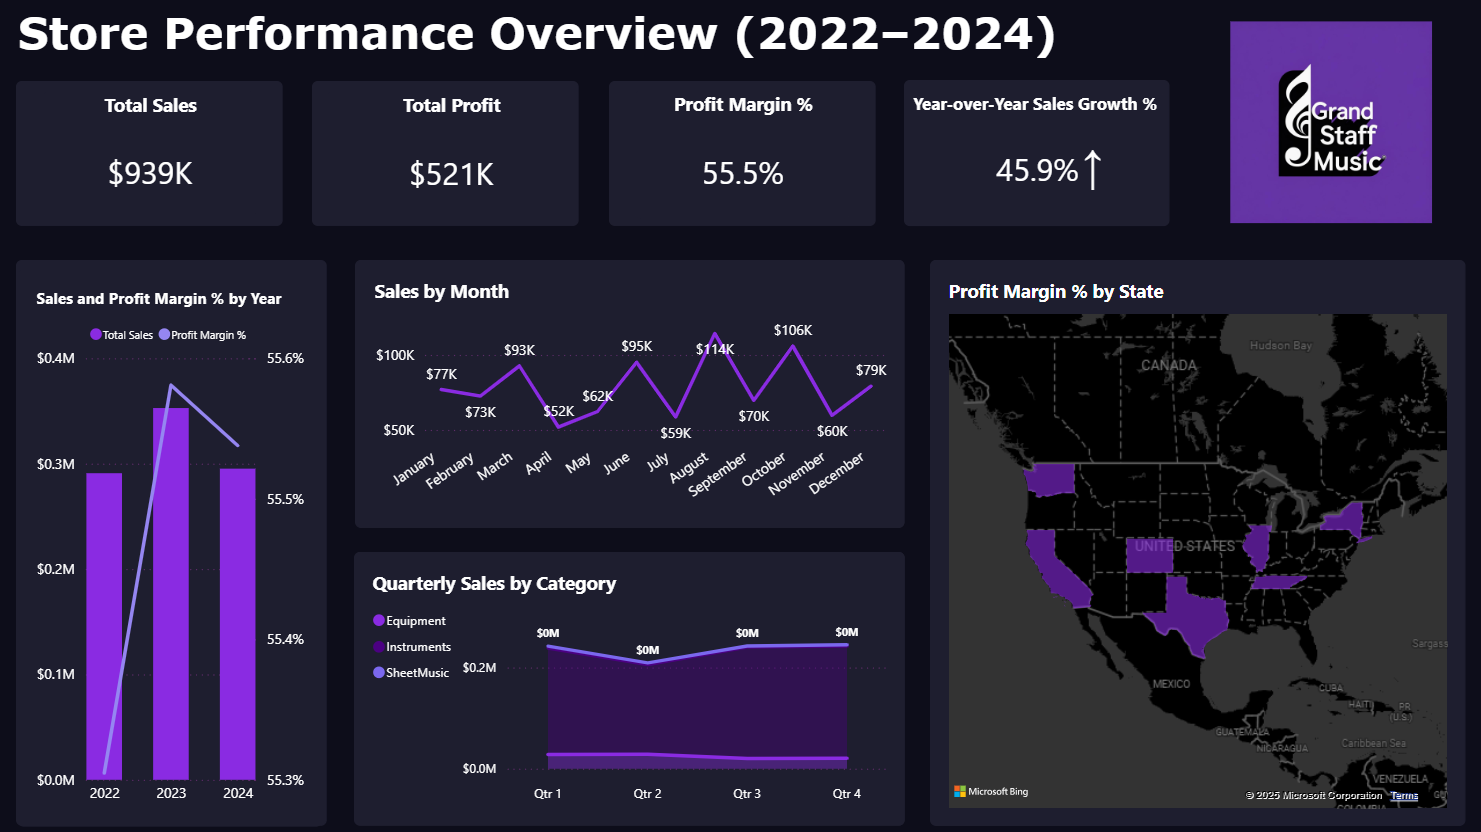

What the dashboard file says about the page in this screenshot:
{"tool":"powerbi","page":{"name":"Overview","canvas":[1280,720],"ordinal":0},"visuals":[{"type":"shape","box":[13.6,70,229.5,125.5],"z":0},{"type":"shape","box":[269.4,70,229.5,125.5],"z":1000},{"type":"shape","box":[525.2,70,229.5,125.5],"z":2000},{"type":"shape","box":[780,68.9,228.9,125.6],"z":3000},{"type":"shape","box":[13.6,224.5,268.2,488.2],"z":4000},{"type":"shape","box":[306.4,224.7,473.7,231.5],"z":5000},{"type":"shape","box":[306.4,476.4,473.6,236.4],"z":6000},{"type":"shape","box":[802.7,224.5,460.9,488.2],"z":7000},{"type":"card","title":"Total Sales","fields":{"Values":["Measures Table.Total Sales"]},"box":[36.7,78.3,183.3,110],"z":8000},{"type":"card","title":"Total Profit","fields":{"Values":["Sum(MusicStore_Fact.Profit)"]},"box":[281.7,78.3,213.3,111.7],"z":9000},{"type":"card","title":"Profit Margin %","fields":{"Values":["Measures Table.Profit Margin %"]},"box":[547.6,77.8,184.8,110.9],"z":10000},{"type":"card","title":"Year-over-Year Sales Growth %","fields":{"Values":["Measures Table.YoY Sales Growth %"]},"box":[786.7,77.8,215.6,107.8],"z":11000},{"type":"lineChart","title":"Sales by Month","fields":{"Y":["Measures Table.Total Sales"],"Category":["Filter_Date.Date.Variation.Date Hierarchy.Month"]},"box":[307.4,224.7,472.7,231.5],"z":12000},{"type":"lineStackedColumnComboChart","title":"Sales and Profit Margin % by Year","fields":{"Y":["Measures Table.Total Sales"],"Y2":["Measures Table.Profit Margin %"],"Category":["Filter_Date.Date.Variation.Date Hierarchy.Year"]},"box":[15.5,231.8,261.8,480.9],"z":13000},{"type":"filledMap","fields":{"Category":["Filter_Customers.State"]},"box":[801.8,224.5,460.9,488.2],"z":14000},{"type":"stackedAreaChart","title":"Quarterly Sales by Category","fields":{"Y":["Measures Table.Total Sales"],"Series":["Filter_Products.Category"],"Category":["Filter_Date.Date.Variation.Date Hierarchy.Quarter"]},"box":[305.5,476.4,474.5,236.4],"z":15000},{"type":"textbox","box":[15.7,4.3,1180,80],"z":16000},{"type":"textbox","box":[933.3,114.4,75.6,110],"z":17000},{"type":"image","box":[1033.8,3.8,228.8,203.8],"z":18000}]}

Visuals, with their boxes in screenshot pixels (x1, y1, x2, y2), scaled from the page's 1280x720 canvas onto the 1481x832 screenshot:
shape: 16, 81, 281, 226
shape: 312, 81, 577, 226
shape: 608, 81, 873, 226
shape: 902, 80, 1167, 225
shape: 16, 259, 326, 824
shape: 355, 260, 903, 527
shape: 355, 551, 902, 824
shape: 929, 259, 1462, 824
"Total Sales" card: 42, 90, 255, 218
"Total Profit" card: 326, 90, 573, 220
"Profit Margin %" card: 634, 90, 847, 218
"Year-over-Year Sales Growth %" card: 910, 90, 1160, 214
"Sales by Month" lineChart: 356, 260, 903, 527
"Sales and Profit Margin % by Year" lineStackedColumnComboChart: 18, 268, 321, 824
filledMap - Filter_Customers.State: 928, 259, 1461, 824
"Quarterly Sales by Category" stackedAreaChart: 353, 551, 902, 824
textbox: 18, 5, 1383, 97
textbox: 1080, 132, 1167, 259
image: 1196, 4, 1461, 240
